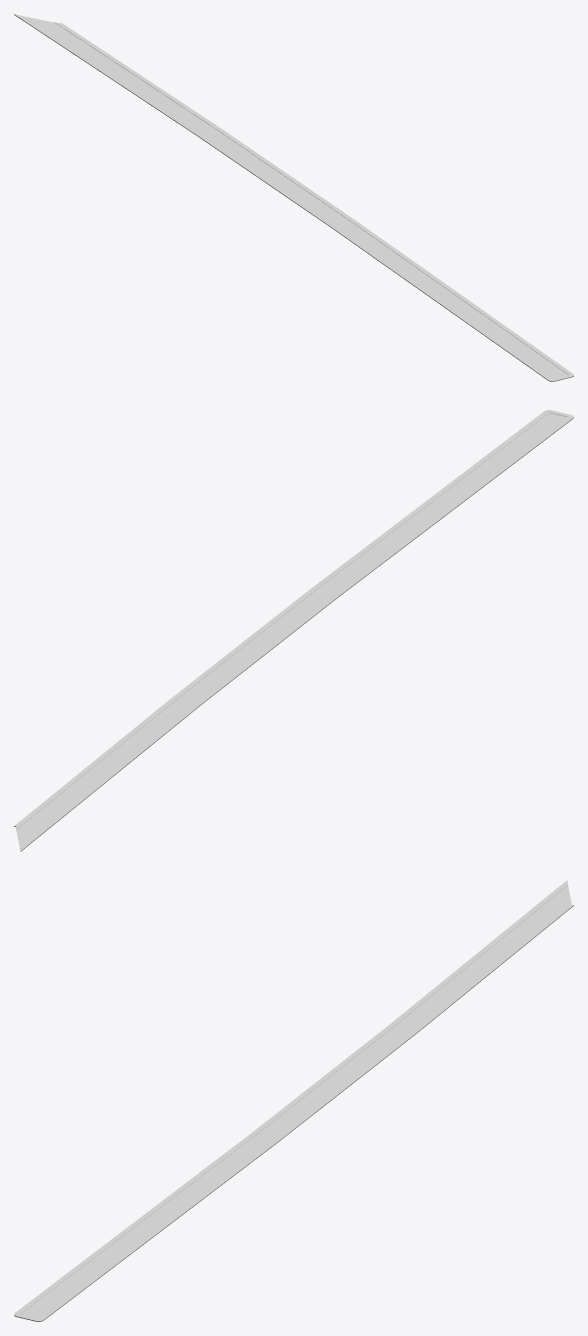
The picture shows the model from 3 angles, top to bottom: view 1: azimuth 30°, elevation 25°; view 2: azimuth 150°, elevation 25°; view 3: azimuth 330°, elevation 25°; orthographic projection. The views are drawn at different scales.
Parts seen in each view (by area): view 1: col_road, col_sidewalk, col_curb, sidewalk; view 2: col_road, col_sidewalk, col_curb, sidewalk; view 3: col_road, col_sidewalk, col_curb, sidewalk.
Part boxes in pixels (<box>): col_road: <box>24,16,567,378</box>; col_sidewalk: <box>14,14,573,381</box>; col_curb: <box>23,16,568,379</box>; sidewalk: <box>14,14,573,381</box>; col_road: <box>16,413,567,846</box>; col_sidewalk: <box>14,410,573,850</box>; col_curb: <box>16,412,568,846</box>; sidewalk: <box>14,418,573,851</box>; col_road: <box>20,885,571,1318</box>; col_sidewalk: <box>14,880,573,1321</box>; col_curb: <box>20,884,570,1318</box>; sidewalk: <box>14,905,573,1321</box>.
Bounding box in the file's own units: 24.82 × 0.32 × 433.
